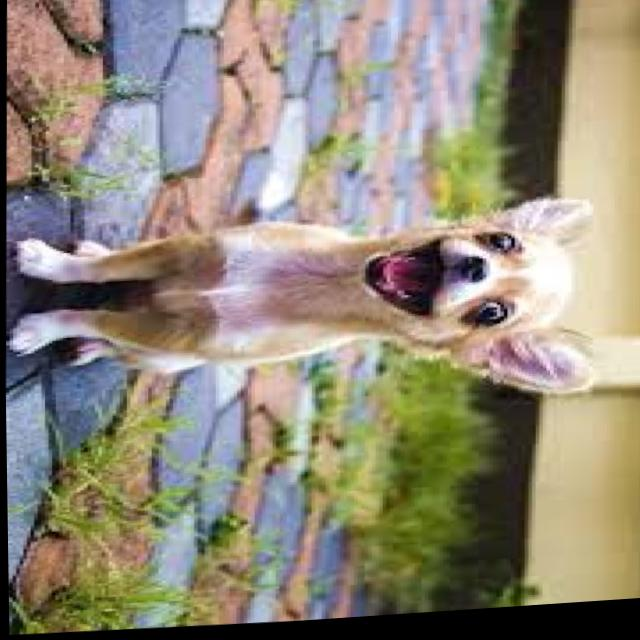dog: (5, 193, 600, 429)
